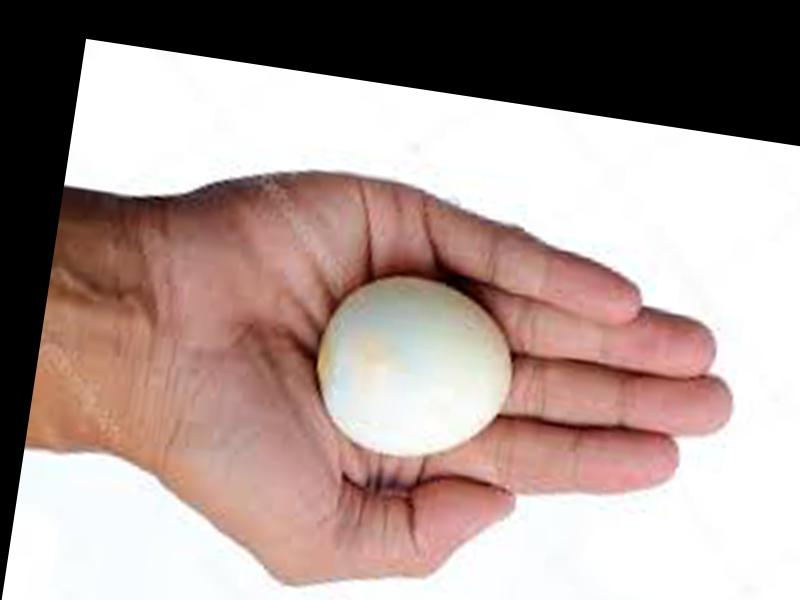Eggs: (306, 268, 526, 467)
